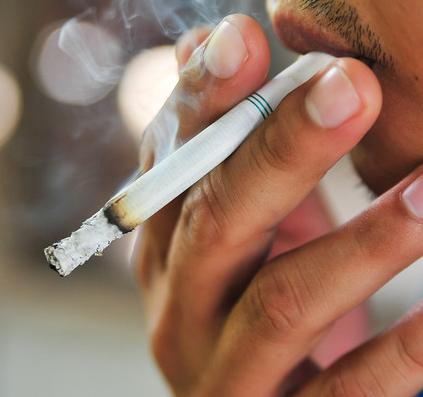smoke: (42, 49, 345, 280)
